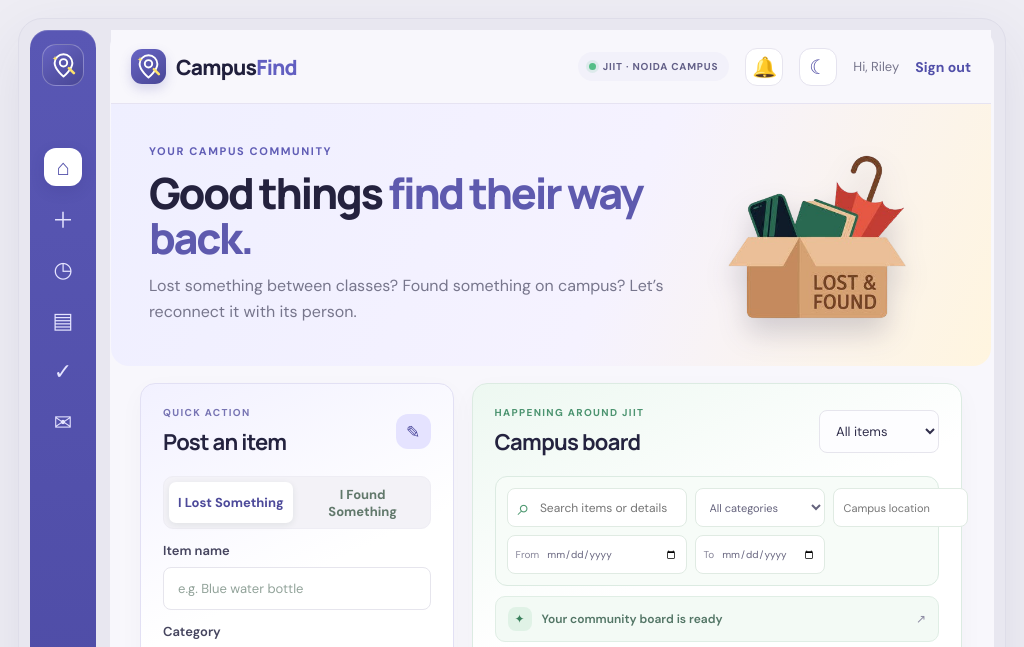
Scenario: CampusFind board › lets a student track claim decisions and staff notes in My Claims
Click the button named "My claims" at point(63, 371), box [44,352,82,390]
(page scrolled)
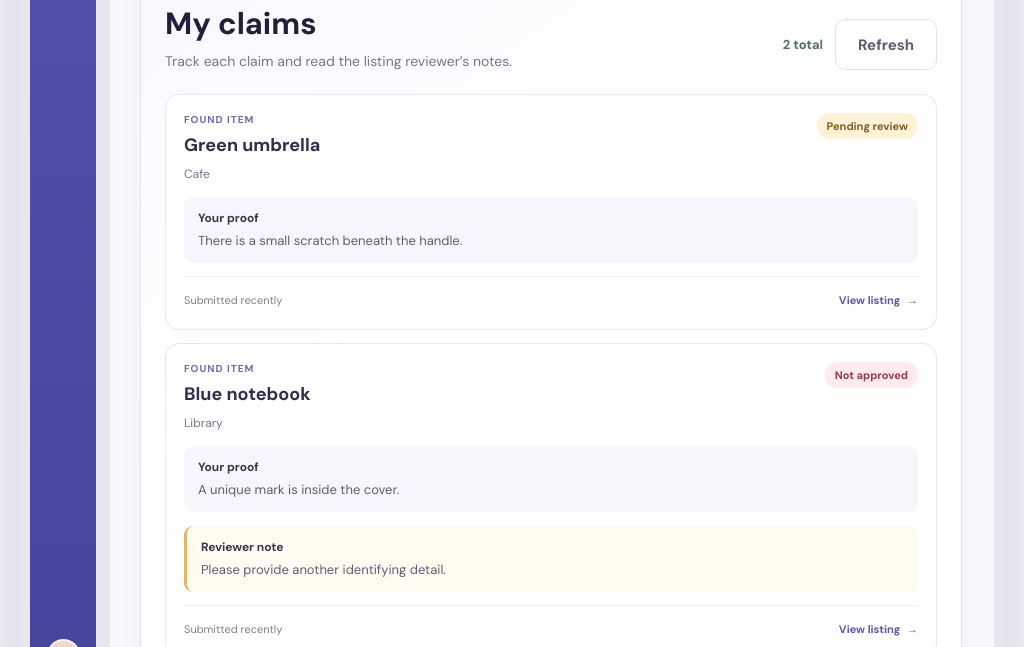
Expected: the heading "My claims" is shown, [165,4,316,44]
Expected: the heading "Green umbrella" is shown, [184,133,320,157]
Expected: the text "Pending review" is shown, [816,113,918,139]
